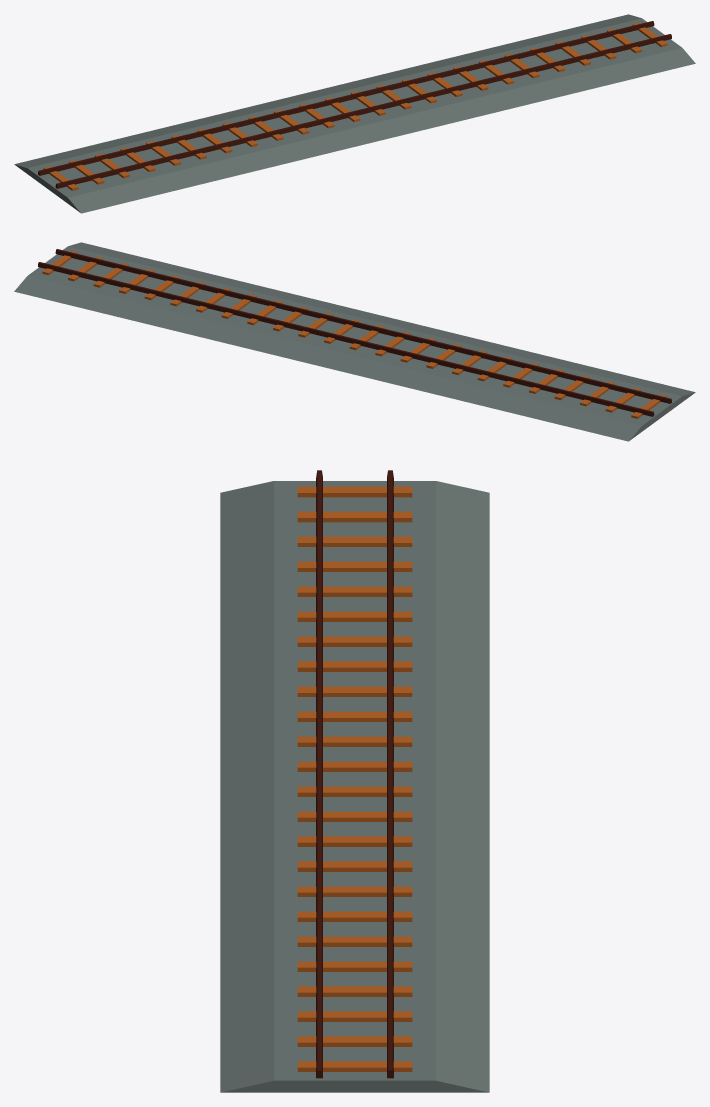
The model's file is raleway_track.fbx.
The picture shows the model from 3 angles, top to bottom: view 1: azimuth 30°, elevation 25°; view 2: azimuth 150°, elevation 25°; view 3: azimuth 270°, elevation 25°; orthographic projection. The views are drawn at different scales.
Parts seen in each view (by area): view 1: ramp, raleway_track; view 2: ramp, raleway_track; view 3: ramp, raleway_track.
Part boxes in pixels (x1,y1,x2,y2): ramp: (14, 14, 695, 213); raleway_track: (38, 21, 671, 190); ramp: (14, 242, 695, 441); raleway_track: (38, 249, 671, 418); ramp: (220, 481, 489, 1092); raleway_track: (297, 470, 412, 1078).
Size of the model in its own units: 9 by 0.1571 by 1.71.
